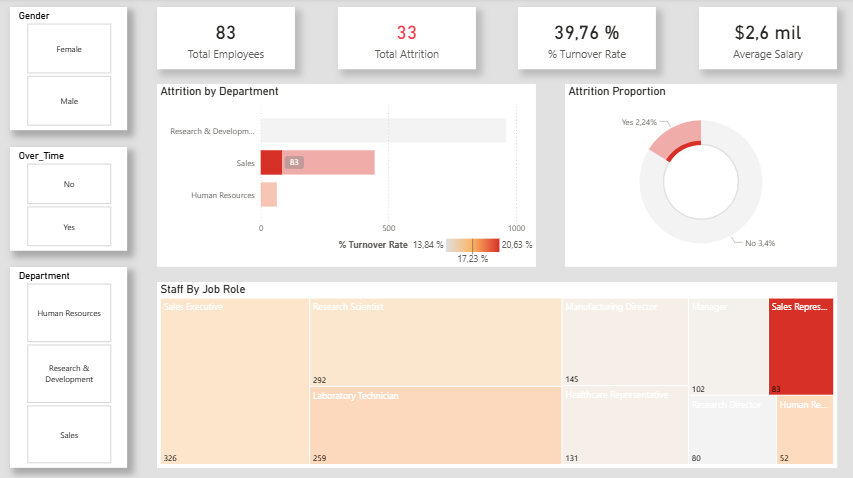

The page's visual inventory and layout, read from the dashboard file:
{"tool":"powerbi","page":{"name":"Talent summary","canvas":[1280,720],"ordinal":0},"visuals":[{"type":"slicer","fields":{"Values":["Dim_JobDetails.Department"]},"box":[14.9,401.8,174.8,300.2],"z":0},{"type":"card","title":"Total Empoyees","fields":{"Values":["_Measures.Total Employees"]},"box":[234.5,13.4,205.8,92.6],"z":1000,"group":"g1"},{"type":"clusteredBarChart","title":"Attrition by Department","fields":{"Category":["Dim_JobDetails.Department"],"Y":["_Measures.Total Employees"]},"box":[233.8,128.5,566.1,273.4],"z":1000},{"type":"card","fields":{"Values":["_Measures.Total Attrition"]},"box":[504.5,13.4,205.8,92.6],"z":2000,"group":"g1"},{"type":"treemap","title":"Staff By Job Role","fields":{"Group":["Dim_JobDetails.Job_Role"],"Values":["_Measures.Total Employees"]},"box":[234.5,424.2,1015.8,277.8],"z":2000},{"type":"card","fields":{"Values":["_Measures.% Turnover Rate"]},"box":[774.5,13.4,205.8,92.6],"z":3000,"group":"g1"},{"type":"donutChart","title":"Attrition Proportion","fields":{"Category":["Fact_Attrition.Attrition"],"Y":["_Measures.Total Employees"]},"box":[844,128.5,406.3,273.4],"z":3000},{"type":"slicer","fields":{"Values":["Dim_Employee.Gender"]},"box":[14.9,13.4,174.8,183.7],"z":4000},{"type":"card","fields":{"Values":["_Measures.Average Salary"]},"box":[1044.5,13.4,205.8,92.6],"z":4000,"group":"g1"},{"type":"slicer","fields":{"Values":["Dim_Satisfaction.Over_Time"]},"box":[14.9,221.8,174.8,155.4],"z":5000},{"type":"group","id":"g1","title":"Grupo 1","box":[234.5,13.4,1015.8,92.6],"z":6000}]}

Visuals, with their boxes in screenshot pixels (x1, y1, x2, y2), scaled from the page's 1280x720 canvas onto the 853x478 screenshot:
slicer - Dim_JobDetails.Department: (x1=10, y1=267, x2=126, y2=466)
"Total Empoyees" card: (x1=156, y1=9, x2=293, y2=70)
"Attrition by Department" clusteredBarChart: (x1=156, y1=85, x2=533, y2=267)
card - _Measures.Total Attrition: (x1=336, y1=9, x2=473, y2=70)
"Staff By Job Role" treemap: (x1=156, y1=282, x2=833, y2=466)
card - _Measures.% Turnover Rate: (x1=516, y1=9, x2=653, y2=70)
"Attrition Proportion" donutChart: (x1=562, y1=85, x2=833, y2=267)
slicer - Dim_Employee.Gender: (x1=10, y1=9, x2=126, y2=131)
card - _Measures.Average Salary: (x1=696, y1=9, x2=833, y2=70)
slicer - Dim_Satisfaction.Over_Time: (x1=10, y1=147, x2=126, y2=250)
"Grupo 1" group: (x1=156, y1=9, x2=833, y2=70)
